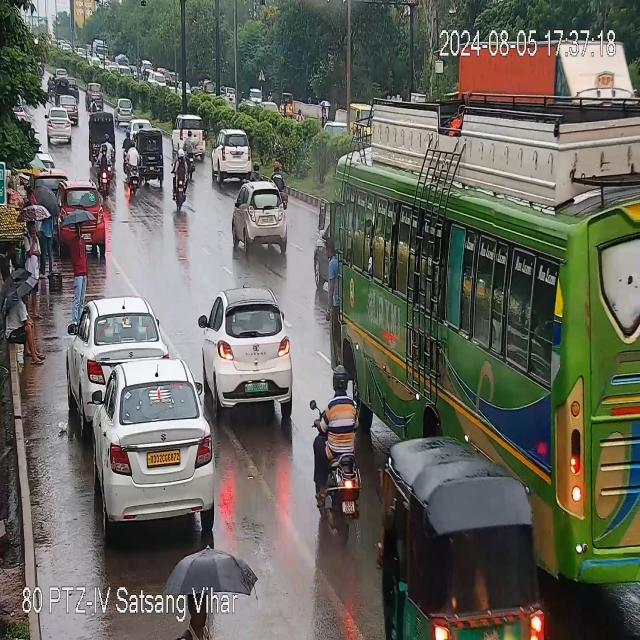2-wheelers: (307, 367, 361, 540), (18, 205, 45, 323), (172, 142, 201, 215), (86, 109, 116, 173), (124, 139, 143, 192), (179, 132, 199, 179)
auto: (375, 433, 538, 569), (136, 127, 165, 187)
bus: (322, 79, 638, 444)
car: (93, 360, 215, 522), (201, 288, 298, 424), (72, 295, 165, 407), (230, 179, 291, 252), (58, 183, 109, 249), (209, 130, 256, 184), (175, 115, 206, 155), (45, 112, 72, 145), (58, 93, 80, 128), (113, 96, 135, 123), (86, 82, 105, 110)
pedestrian: (2, 285, 48, 366), (56, 220, 90, 322)
